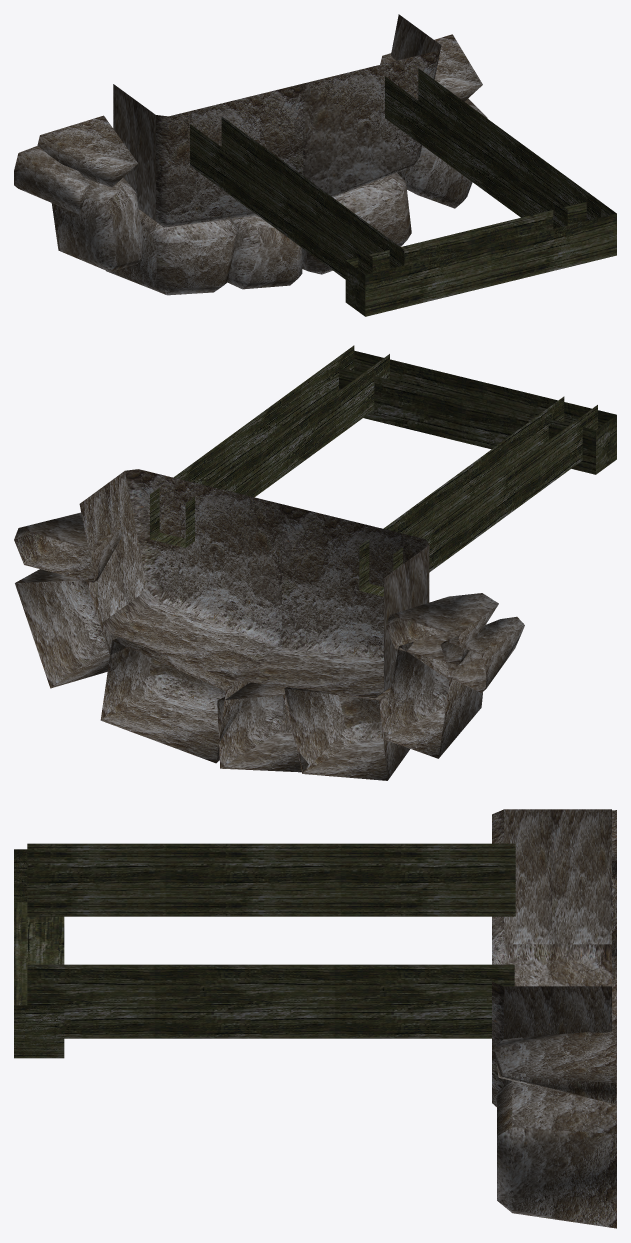
Rendered from ex_nord_doorf_01.obj.
3 renders of one model, top to bottom at view 1: azimuth 30°, elevation 25°; view 2: azimuth 150°, elevation 25°; view 3: azimuth 270°, elevation 25°, orthographic. The views are drawn at different scales.
Visible parts, largest first — view 1: Tri Ex_nord_doorf_01 1, Tri Ex_nord_doorf_01 0; view 2: Tri Ex_nord_doorf_01 1, Tri Ex_nord_doorf_01 0; view 3: Tri Ex_nord_doorf_01 0, Tri Ex_nord_doorf_01 1.
Boxes of the visible parts, x1=… form: Tri Ex_nord_doorf_01 1: x1=14, y1=14, x2=487, y2=295; Tri Ex_nord_doorf_01 0: x1=190, y1=68, x2=616, y2=316; Tri Ex_nord_doorf_01 1: x1=14, y1=469, x2=524, y2=780; Tri Ex_nord_doorf_01 0: x1=150, y1=345, x2=616, y2=596; Tri Ex_nord_doorf_01 0: x1=14, y1=843, x2=515, y2=1058; Tri Ex_nord_doorf_01 1: x1=492, y1=809, x2=616, y2=1228.
Size of the model in its own units: 273 by 126 by 254.
2 materials, 2 textured.
